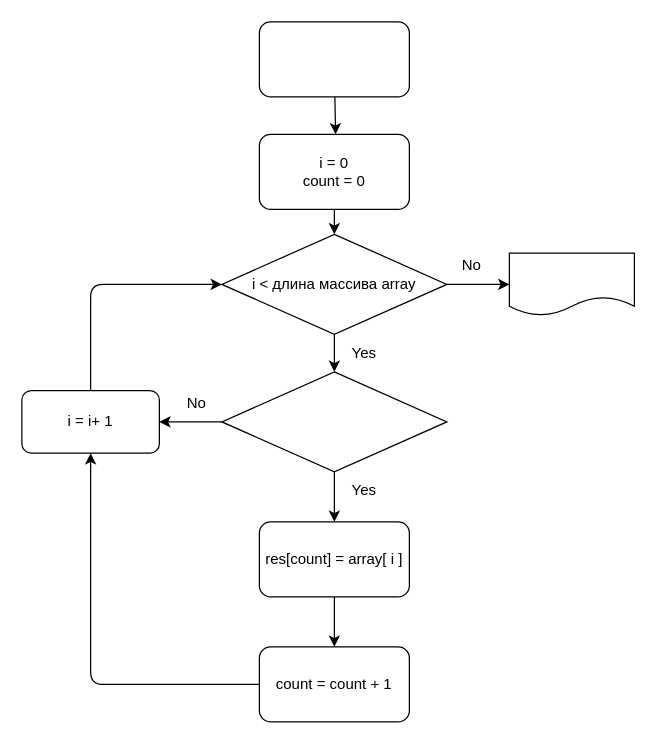
Some shapes in this 656 by 744 pixel diagram are drawn without their labels. The centre of each missing label's shape, as x and y in pixels:
"array[ i ] <= 3" belongs at (x=334, y=421).
"GetResArray" belongs at (x=333, y=59).
"PrintArray(res)" belongs at (x=571, y=284).
